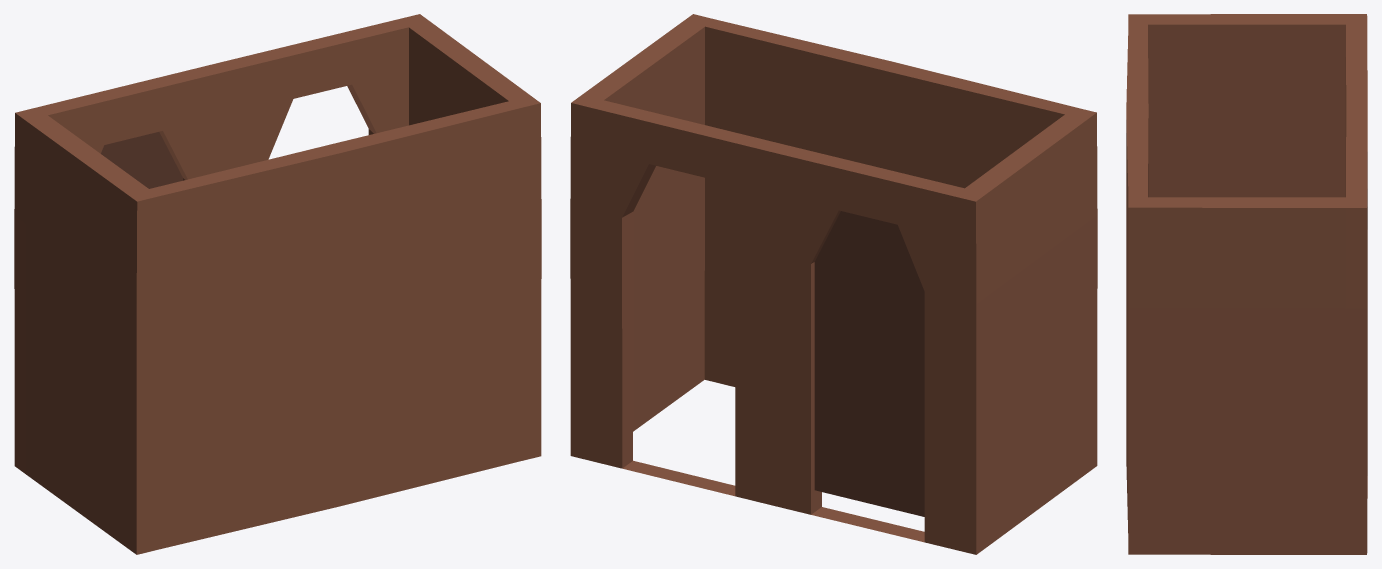
File: paredes.fbx
3 renders of one model, left to right at view 1: azimuth 30°, elevation 25°; view 2: azimuth 150°, elevation 25°; view 3: azimuth 270°, elevation 25°, orthographic.
Parts seen in each view (by area): view 1: Cube.001, Plane; view 2: Cube.001, Plane; view 3: Cube.001.
Part boxes in pixels (bbox=[...]): Cube.001: bbox=[14, 14, 541, 554]; Plane: bbox=[101, 132, 182, 188]; Cube.001: bbox=[570, 14, 1097, 554]; Plane: bbox=[814, 211, 924, 516]; Cube.001: bbox=[1126, 14, 1367, 554].
Size of the model in its own units: 11.65 by 9.68 by 6.11.
